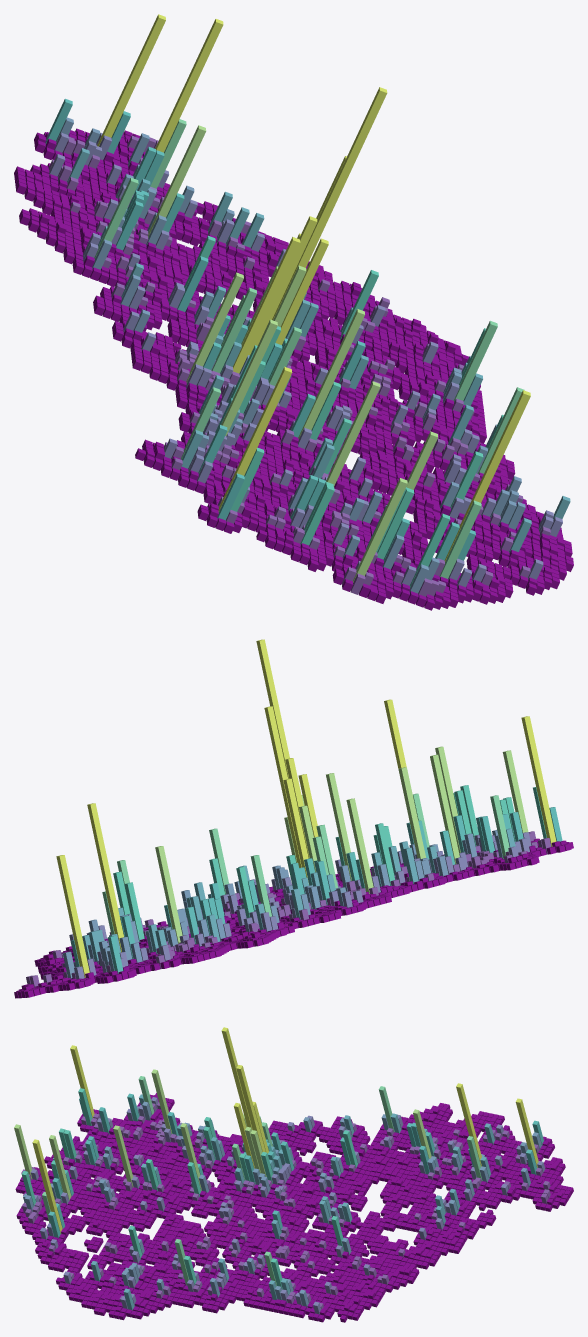
File: building_industrial.gltf
3 views of the same model, one above another, from view 1: azimuth 30°, elevation 25°; view 2: azimuth 150°, elevation 25°; view 3: azimuth 270°, elevation 25° (orthographic). The views are drawn at different scales.
Visible parts, largest first — view 1: Object.010, Object.012, Object.011, Object.019, Object.018, Object.015, Object.013, Object.016, Object.017, Object.014; view 2: Object.010, Object.019, Object.018, Object.015, Object.013, Object.012, Object.016, Object.014, Object.011, Object.017; view 3: Object.010, Object.011, Object.012, Object.013, Object.019, Object.015, Object.016, Object.014, Object.018, Object.017.
Boxes of the visible parts, x1,y1,x2,y2 form: Object.010: (14,128,573,610); Object.012: (49,132,562,587); Object.011: (48,135,550,596); Object.019: (97,14,530,561); Object.018: (148,125,438,582); Object.015: (45,98,475,560); Object.013: (56,117,525,593); Object.016: (184,235,503,587); Object.017: (94,119,524,578); Object.014: (67,148,570,552); Object.010: (14,838,573,998); Object.019: (56,639,556,977); Object.018: (155,746,528,943); Object.015: (71,807,562,973); Object.013: (63,827,503,978); Object.012: (69,832,531,979); Object.016: (113,785,546,941); Object.014: (82,828,515,964); Object.011: (26,831,551,987); Object.017: (102,793,509,934); Object.010: (15,1093,573,1322); Object.011: (21,1102,550,1308); Object.012: (30,1097,545,1314); Object.013: (23,1101,541,1307); Object.019: (32,1027,538,1233); Object.015: (48,1093,543,1238); Object.016: (21,1088,357,1289); Object.014: (91,1094,494,1310); Object.018: (14,1069,431,1200); Object.017: (42,1076,482,1285).
Size of the model in its own units: 6.26 by 5.23 by 10.16.
